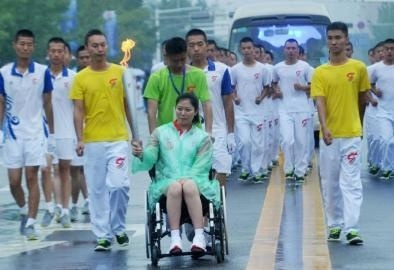fire: (116, 34, 136, 66)
